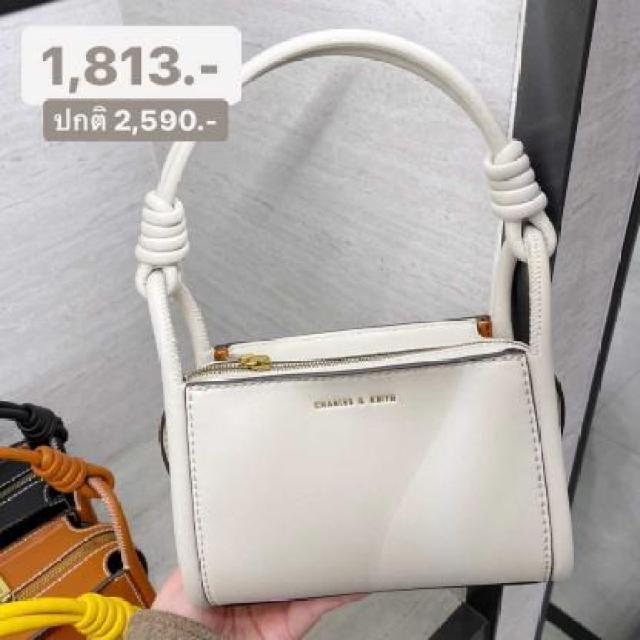Bag: (91, 3, 607, 631)
